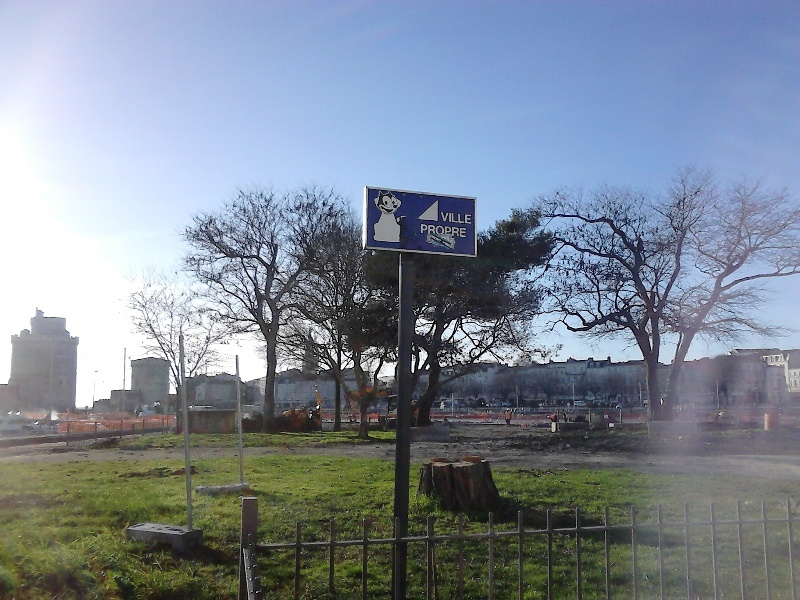text: (433, 235, 448, 250), (433, 224, 448, 238), (449, 224, 464, 238), (449, 212, 464, 225), (420, 224, 432, 238), (465, 212, 473, 225), (441, 212, 448, 225), (449, 235, 454, 250), (465, 224, 467, 238)
